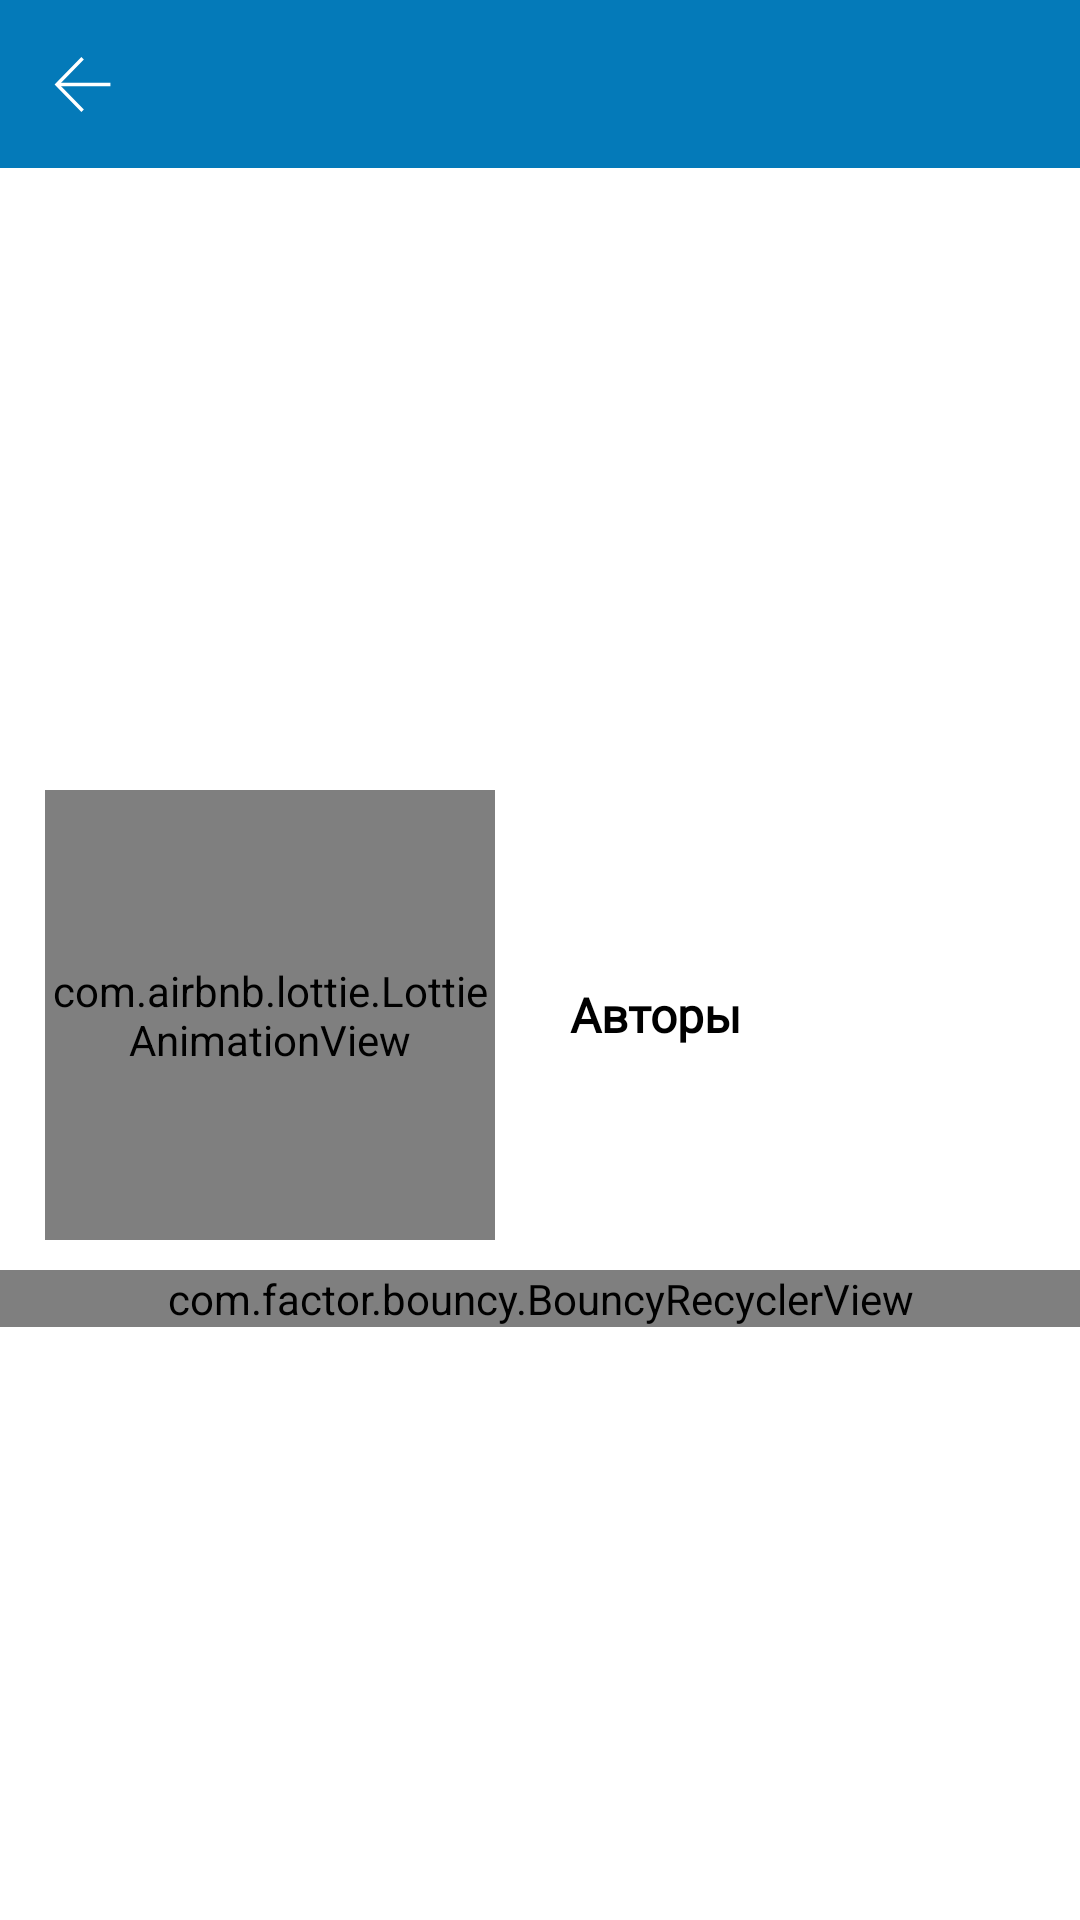

Where icons sit on this 1080*1920 app screen, as region(x1, y1, x2, y2):
back: region(54, 57, 111, 112)
